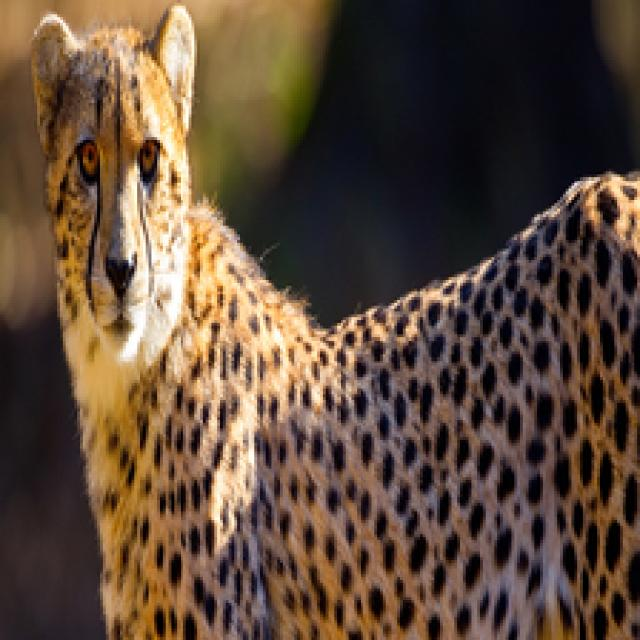cheetah: (25, 9, 640, 640)
